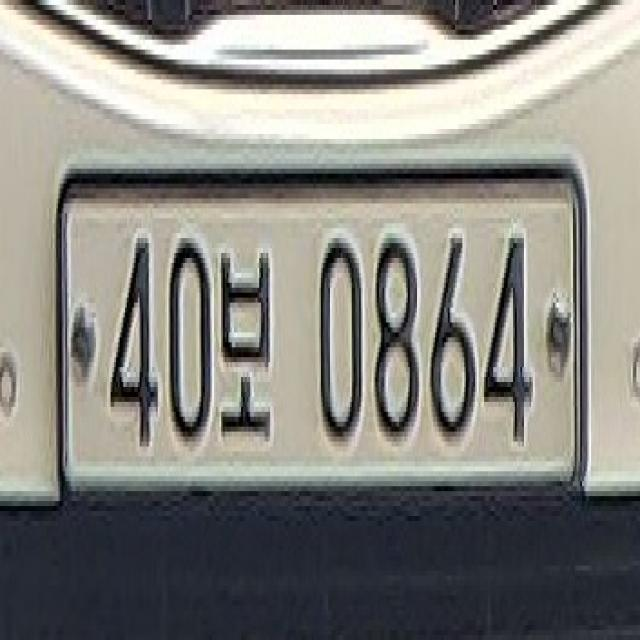0: (317, 233, 363, 442), (167, 233, 212, 442)
4: (477, 223, 533, 442), (105, 223, 158, 447)
6: (426, 228, 477, 447)
8: (368, 228, 419, 452)
bo: (221, 248, 272, 442)
license_plate: (56, 164, 589, 516)
